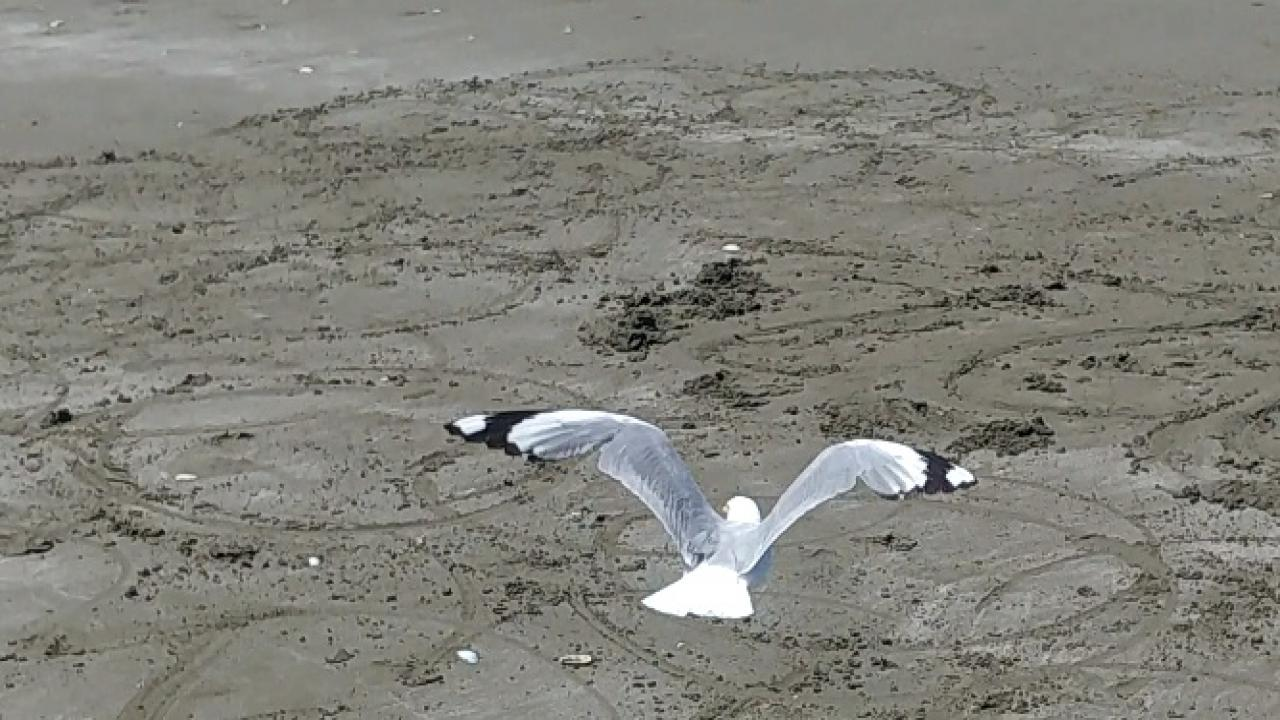Bird: (435, 394, 989, 634)
